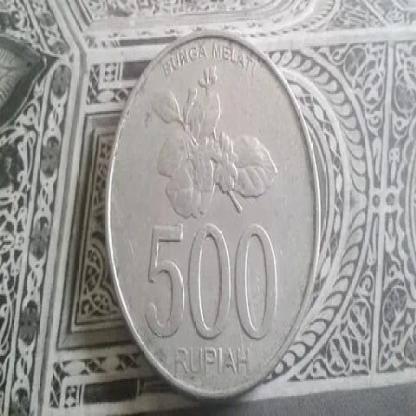coin_500_e2003: (101, 27, 329, 407)
